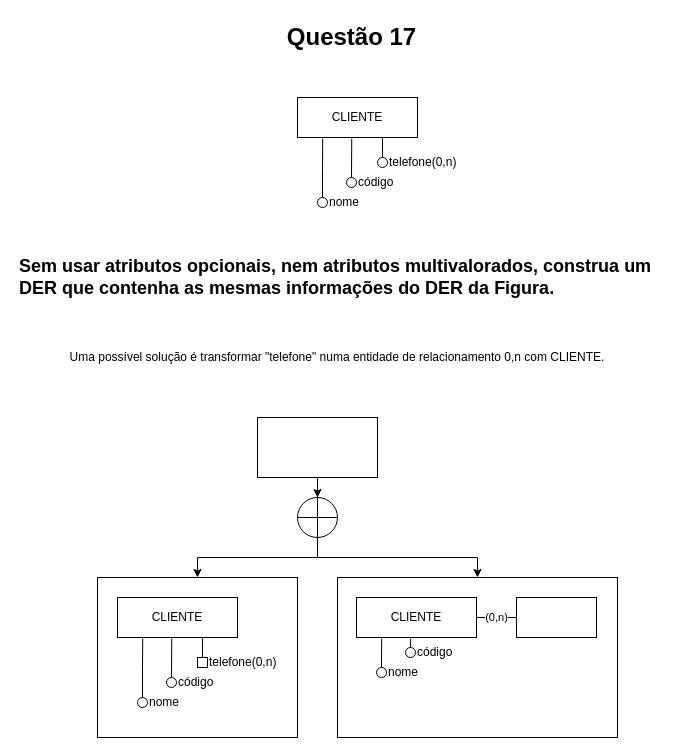
Some shapes in this 674 by 755 pixel diagram are drawn without their labels. The shapes that lost their labels are listed below. From the top down, each one's centre as x and y in pixels, then its label:
At point 317,447: "Resposta visual".
At point 556,617: "telefone".
